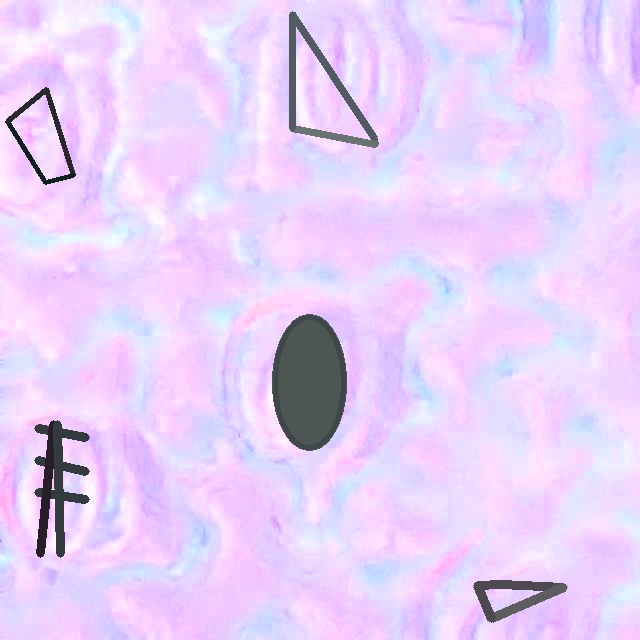close: (5, 87, 75, 184), (473, 580, 567, 622)
open: (290, 12, 376, 146), (272, 314, 346, 451), (34, 420, 89, 557)
